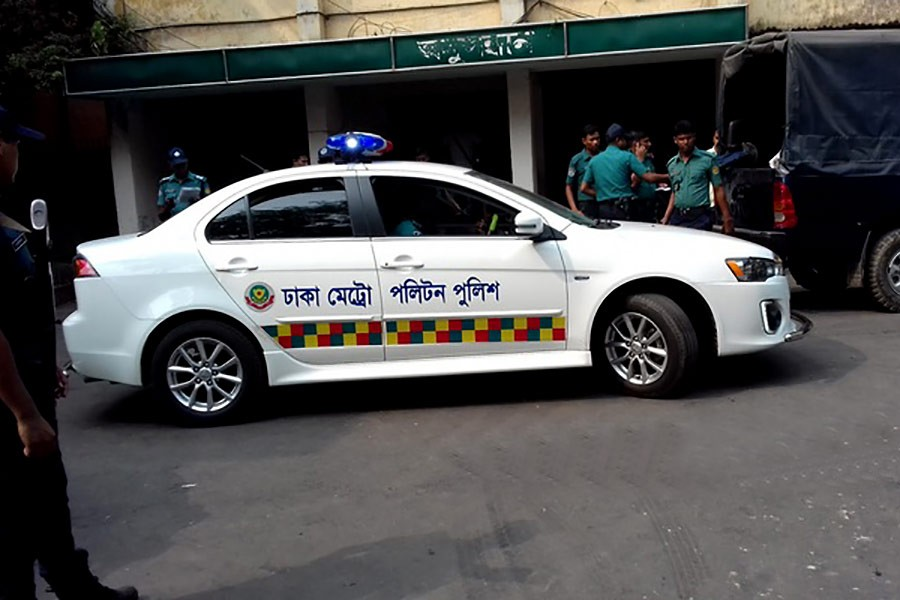policecar: (60, 130, 813, 425), (707, 29, 900, 313)
